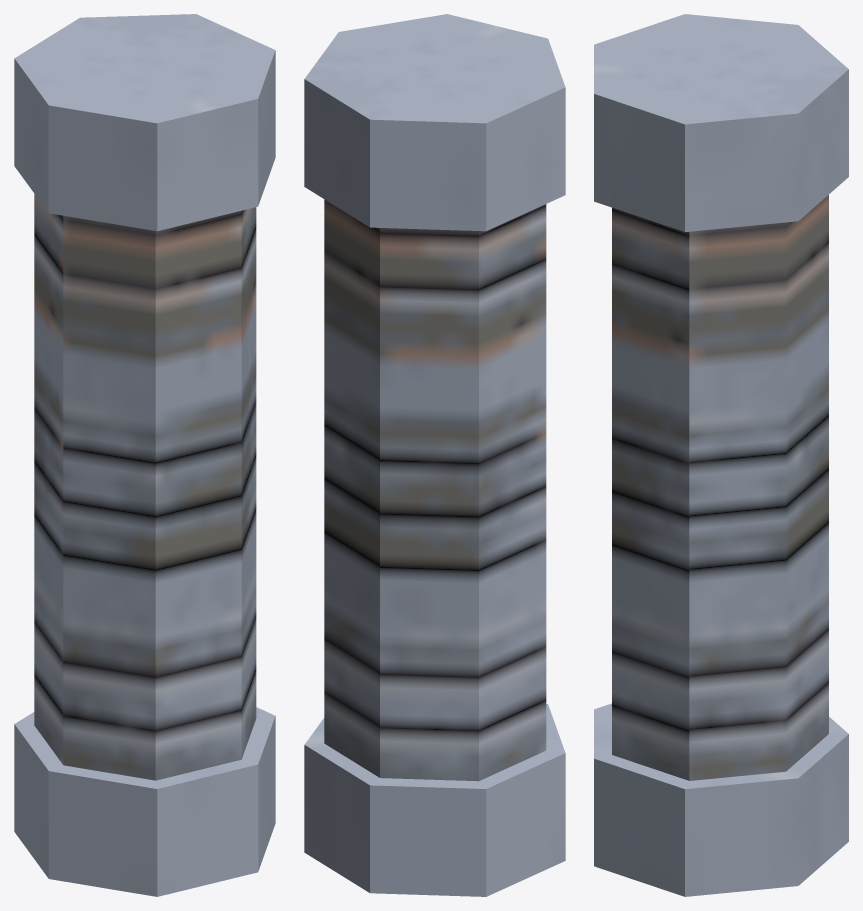
Rendered from good fuse.fbx.
3 views of the same model, side by side, from view 1: azimuth 30°, elevation 25°; view 2: azimuth 150°, elevation 25°; view 3: azimuth 270°, elevation 25° (orthographic).
Parts seen in each view (by area): view 1: Cylinder; view 2: Cylinder; view 3: Cylinder.
Part boxes in pixels (x1,y1,x2,y2): Cylinder: (14,14,275,896); Cylinder: (304,14,565,896); Cylinder: (594,14,848,896).
Size of the model in its own units: 7.71 by 25.13 by 7.51.
